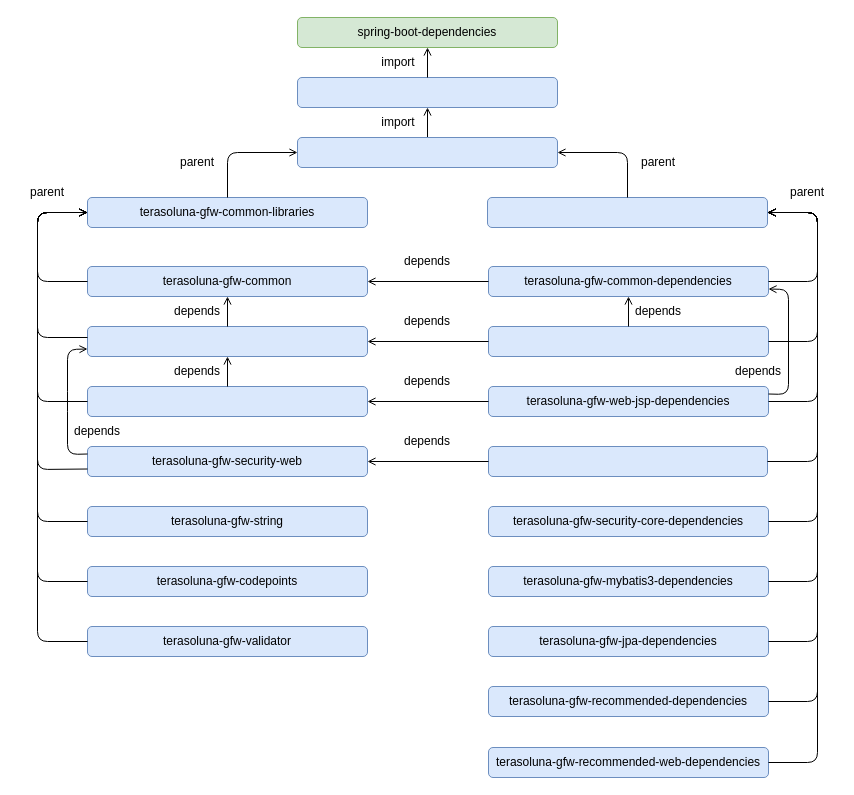
Image size: 854x795. Some labels were removed from this diagram. The centre of each missing label's shape, as x and y in pixels:
"terasoluna-dependencies" goes at pixel 427 92.
"terasoluna-gfw-dependencies" goes at pixel 627 212.
"terasoluna-gfw-parent" goes at pixel 427 152.
"terasoluna-gfw-security-web-dependencies" goes at pixel 628 461.
"terasoluna-gfw-web" goes at pixel 227 341.
"terasoluna-gfw-web-dependencies" goes at pixel 628 341.
"terasoluna-gfw-web-jsp" goes at pixel 227 401.
